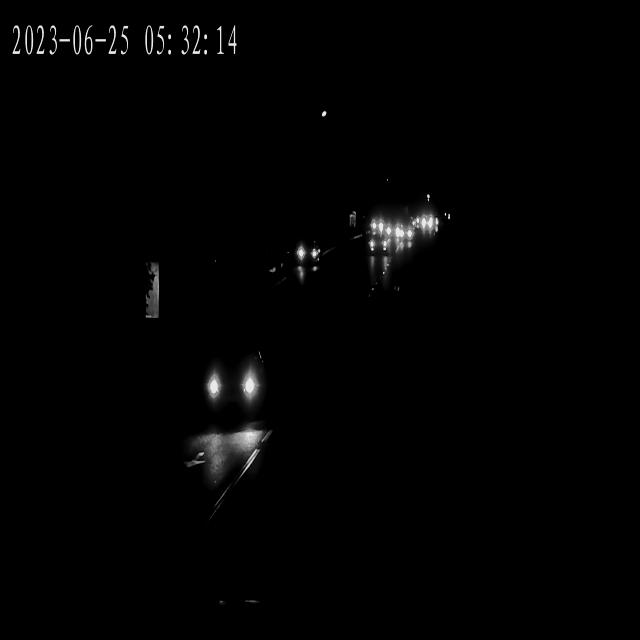Car: (201, 342, 268, 432), (293, 237, 319, 283), (412, 212, 437, 239), (369, 207, 388, 242), (390, 220, 410, 248)
